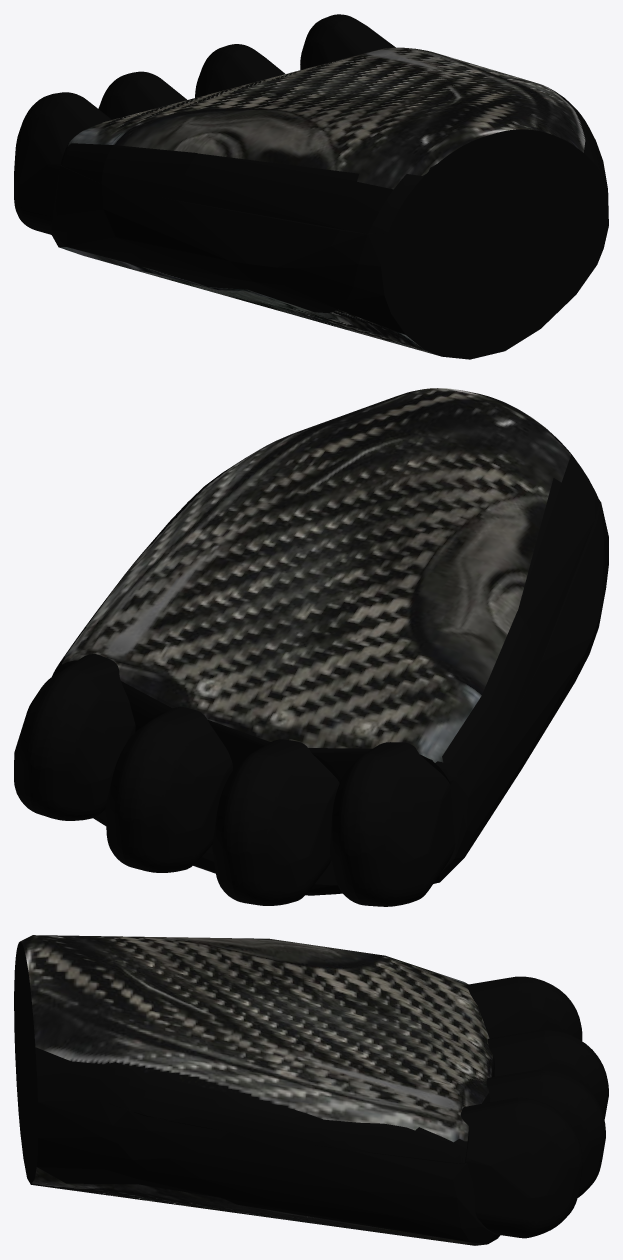
The model's file is FB_palm_ref.glb.
3 views of the same model, one above another, from view 1: azimuth 30°, elevation 25°; view 2: azimuth 150°, elevation 25°; view 3: azimuth 270°, elevation 25° (orthographic). The views are drawn at different scales.
Visible parts, largest first — view 1: FB_palm_ref; view 2: FB_palm_ref; view 3: FB_palm_ref.
Part boxes in pixels (x1,y1,x2,y2): FB_palm_ref: (14,14,608,359); FB_palm_ref: (14,388,608,906); FB_palm_ref: (14,935,608,1245).
Size of the model in its own units: 0.0816 by 0.053 by 0.1106.
1 material, 1 textured.
